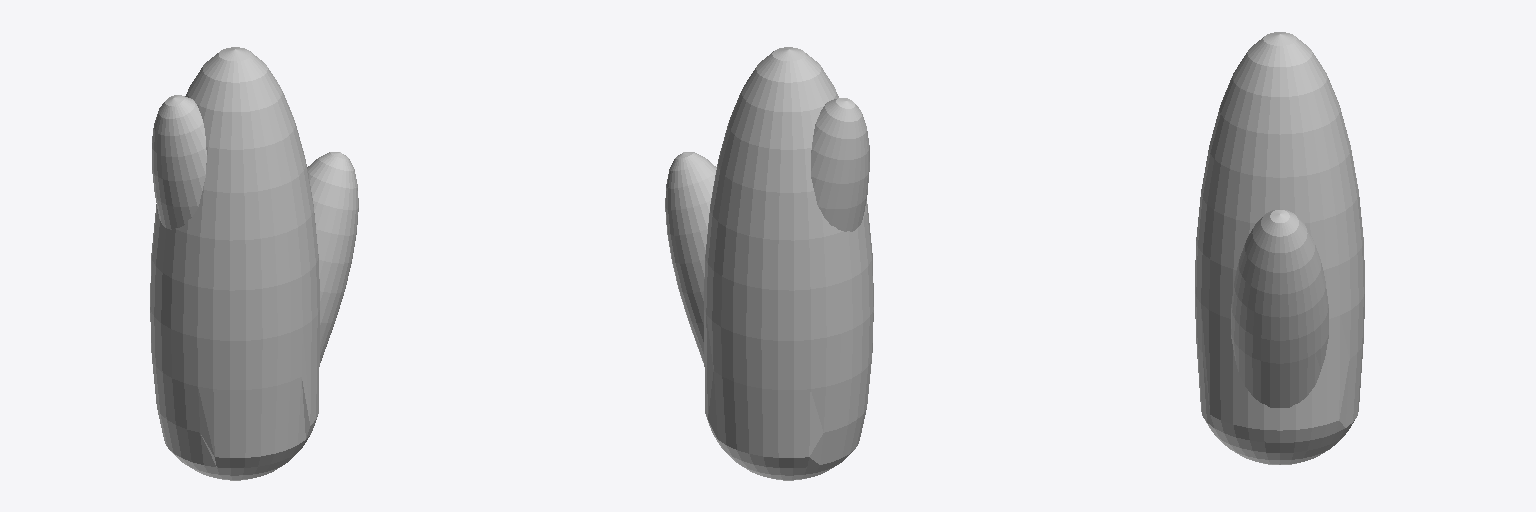
File: Leaves2.obj
3 renders of one model, left to right at view 1: azimuth 30°, elevation 25°; view 2: azimuth 150°, elevation 25°; view 3: azimuth 270°, elevation 25°, orthographic.
Visible parts, largest first — view 1: Sphere.001; view 2: Sphere.001; view 3: Sphere.001.
Boxes of the visible parts, box(x1,y1,x2,y2) form: Sphere.001: box(150, 47, 358, 480); Sphere.001: box(665, 47, 873, 480); Sphere.001: box(1195, 32, 1364, 464).
Bounding box in the file's own units: 2.65 × 5.47 × 2.